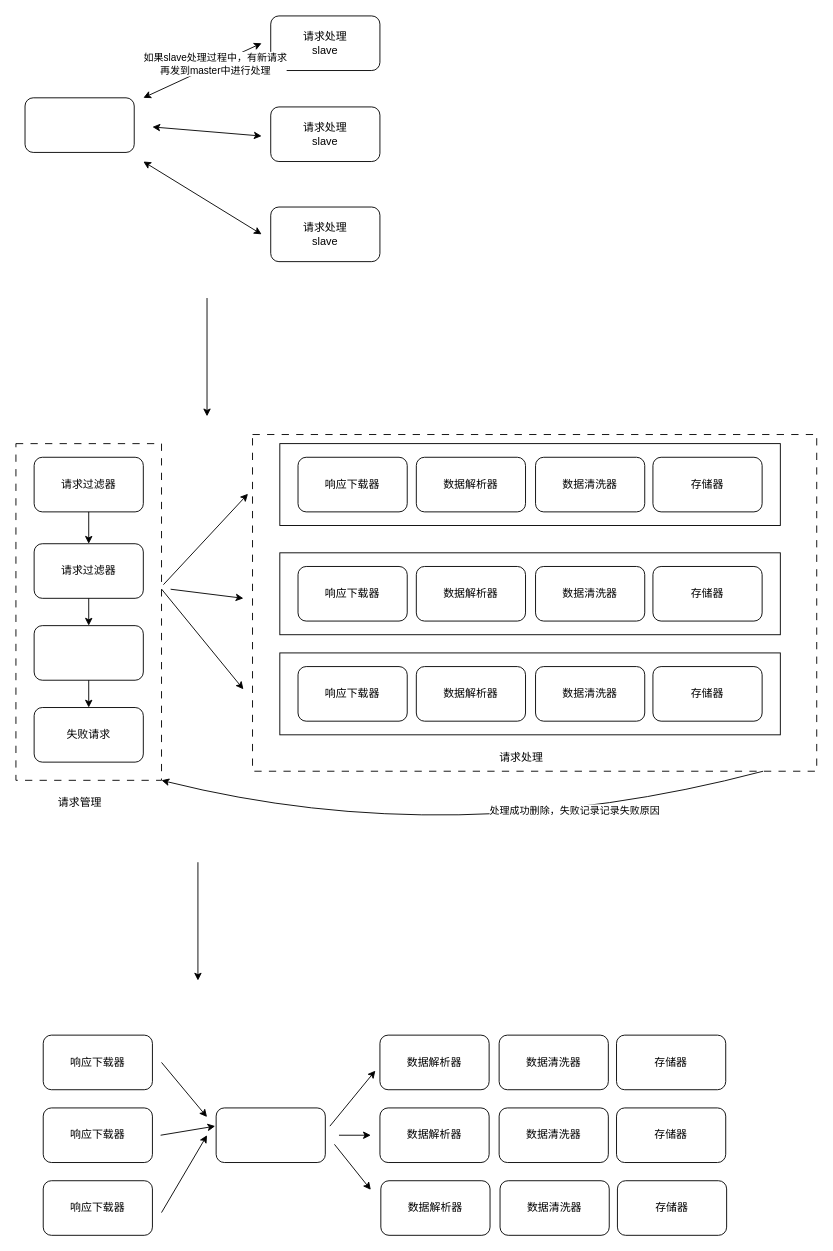
Some shapes in this 833 by 1251 pixel diagram are drawn without their labels. Here are the shapes that lost their labels. From the top down, the centre of each, then its label:
pixel 79 124: 请求管理 master
pixel 88 652: 处理中的请求
pixel 270 1135: 响应队列
